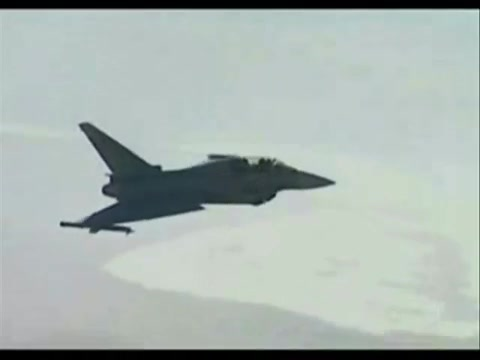aeroplane: (60, 124, 338, 235)
